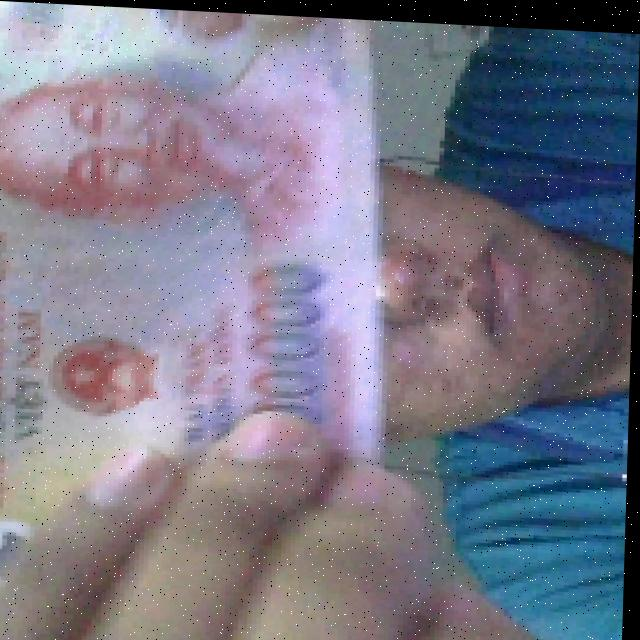200 000 VND: (0, 0, 393, 612)
